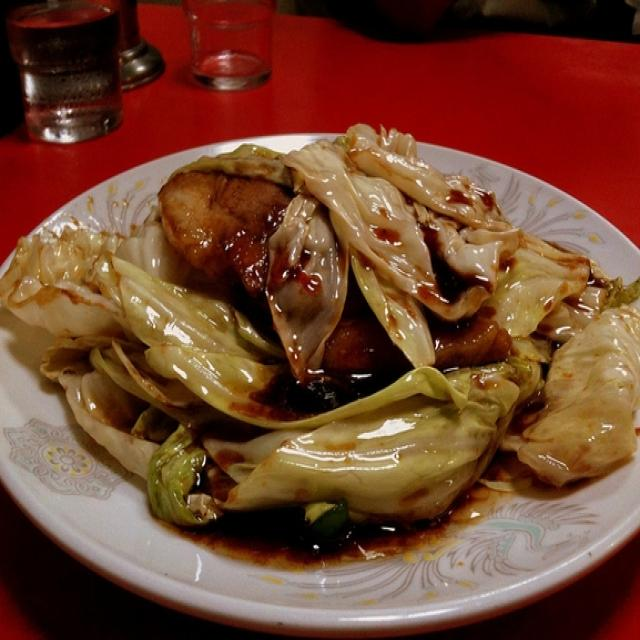猪肉菜式: (18, 95, 623, 597)
